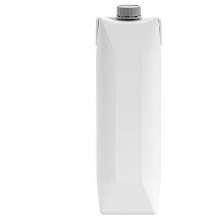carton: (89, 2, 166, 223)
